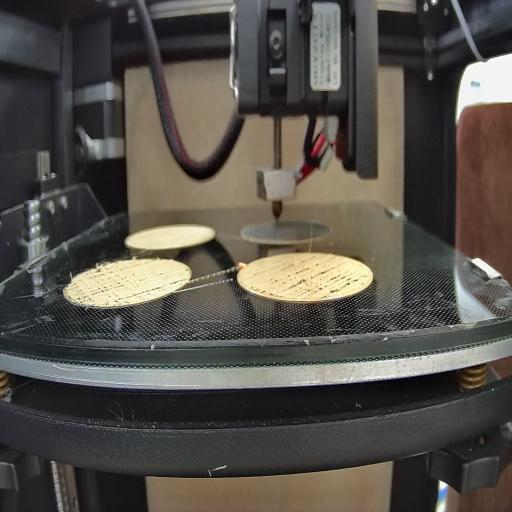under_extrusion: (250, 265, 368, 295), (70, 264, 123, 304), (129, 276, 188, 299)
